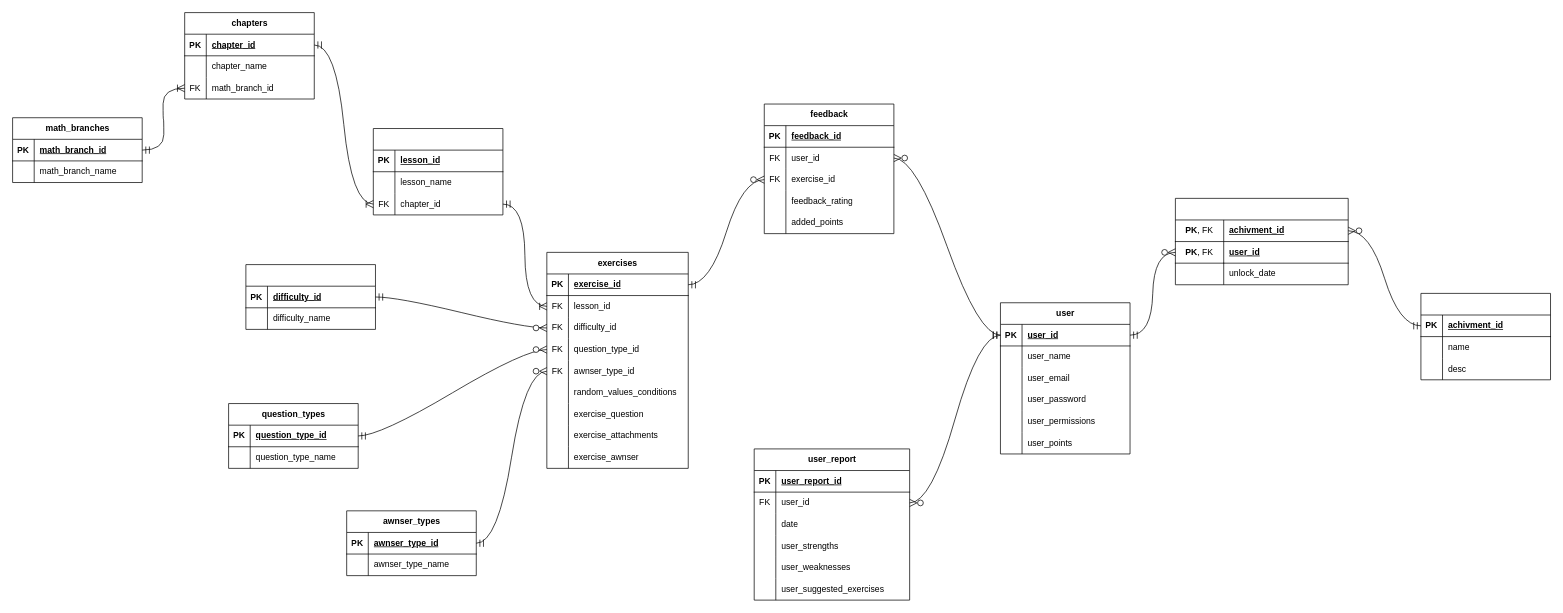
This 1563x613 diagram has some shape labels left out. Each missing label, with the box of its shape:
achivments: (1420, 293, 1551, 380)
achivments_unlocks: (1175, 198, 1348, 285)
difficulties: (245, 264, 375, 329)
lessons: (373, 128, 503, 215)
